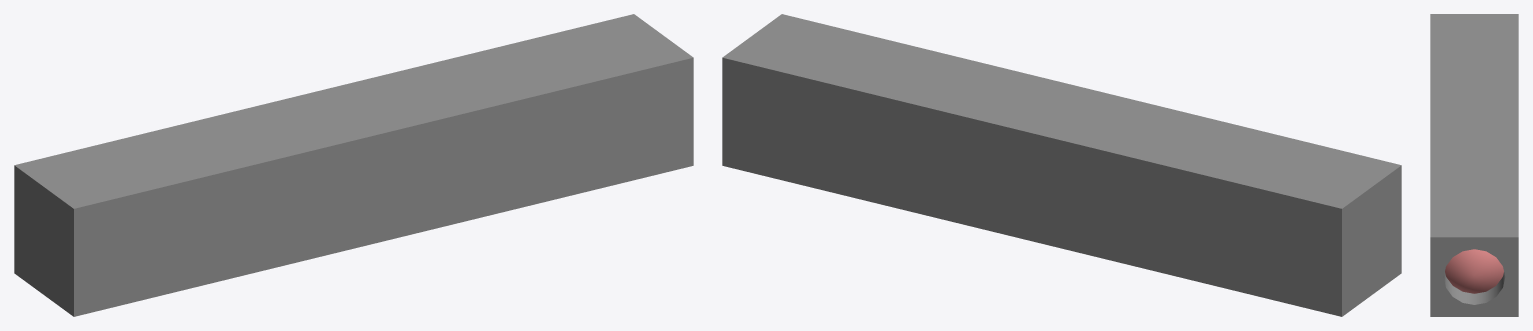
The model's file is SM_Launcher_2x1sx1s.gltf.
3 views of the same model, side by side, from view 1: azimuth 30°, elevation 25°; view 2: azimuth 150°, elevation 25°; view 3: azimuth 270°, elevation 25° (orthographic). The views are drawn at different scales.
Visible parts, largest first — view 1: SM_Launcher_2x1sx1s; view 2: SM_Launcher_2x1sx1s; view 3: SM_Launcher_2x1sx1s.
Part boxes in pixels (x1,y1,x2,y2): SM_Launcher_2x1sx1s: [14, 14, 693, 316]; SM_Launcher_2x1sx1s: [722, 14, 1401, 316]; SM_Launcher_2x1sx1s: [1430, 14, 1518, 316].
Size of the model in its own units: 0.6 by 0.1 by 0.1.
